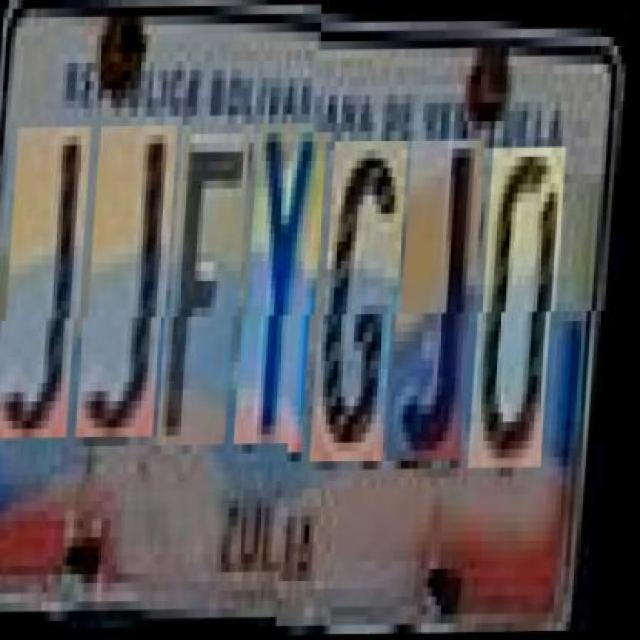0: (479, 148, 568, 470)
f: (167, 134, 251, 455)
g: (321, 142, 410, 463)
j: (86, 135, 179, 447), (398, 140, 487, 462), (3, 136, 92, 449)
y: (244, 133, 328, 455)
